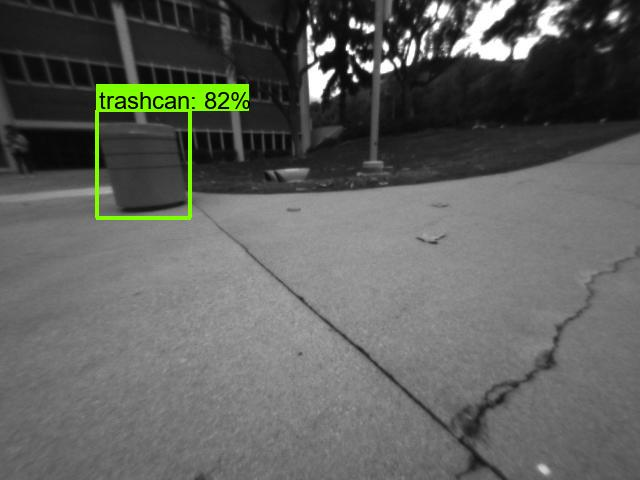trashcan: (91, 123, 189, 219)
